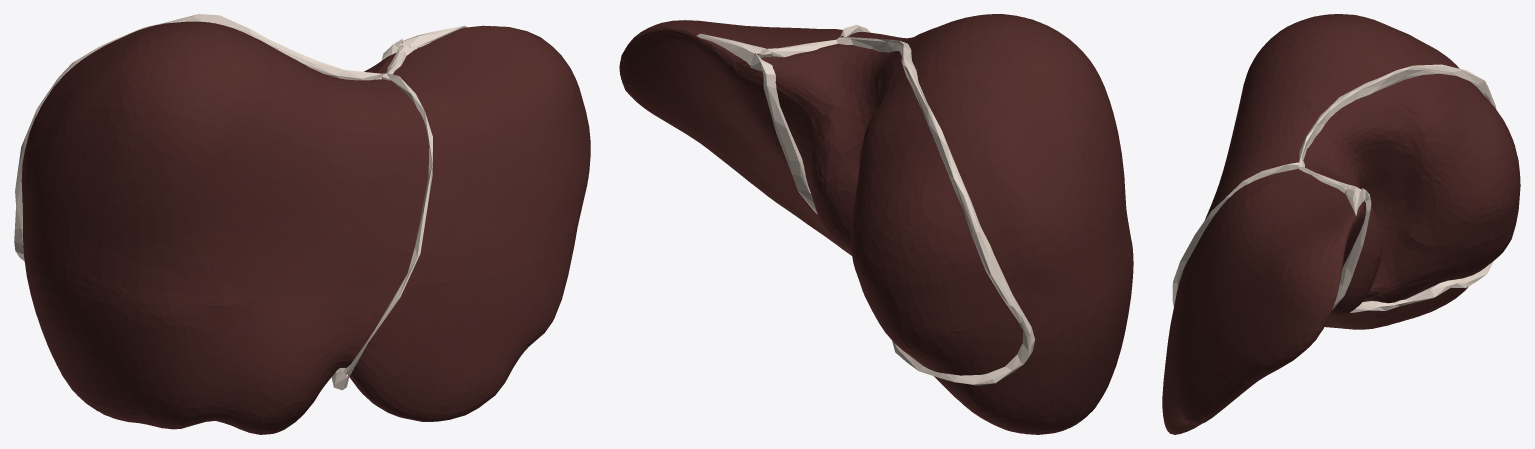
File: VH_F_Liver_0.2.glb
3 renders of one model, left to right at view 1: azimuth 30°, elevation 25°; view 2: azimuth 150°, elevation 25°; view 3: azimuth 270°, elevation 25°, orthographic. The views are drawn at different scales.
Visible parts, largest first — view 1: VH_F_capsule_of_the_liver, VH_F_left_superomedial_segment1, VH_F_right_anterosuperior_segment, VH_F_left_inferomedial_segment, VH_F_right_anteroinferior_segment, VH_F_left_superomedial_segment, VH_F_coronary_ligament_of_liver, VH_F_left_anterolateral_segment, VH_F_falciform_ligament, VH_F_right_posterosuperior_segment; view 2: VH_F_capsule_of_the_liver, VH_F_bare_area_of_liver, VH_F_right_posterosuperior_segment, VH_F_diaphragmatic_surface_of_liver, VH_F_left_superomedial_segment, VH_F_coronary_ligament_of_liver, VH_F_caudate_lobe, VH_F_right_anterosuperior_segment, VH_F_right_posteroinferior_segment, VH_F_ligamentum_venosum, VH_F_gastric_impression_of_liver, VH_F_left_anterolateral_segment (+3 smaller); view 3: VH_F_capsule_of_the_liver, VH_F_bare_area_of_liver, VH_F_caudate_lobe, VH_F_left_superomedial_segment, VH_F_right_posterosuperior_segment, VH_F_coronary_ligament_of_liver, VH_F_left_superomedial_segment1, VH_F_diaphragmatic_surface_of_liver, VH_F_falciform_ligament, VH_F_right_anterosuperior_segment, VH_F_left_anterolateral_segment, VH_F_ligamentum_venosum (+4 smaller).
Part boxes in pixels (bbox=[...]): VH_F_capsule_of_the_liver: bbox=[21, 21, 590, 434]; VH_F_left_superomedial_segment1: bbox=[222, 55, 433, 305]; VH_F_right_anterosuperior_segment: bbox=[38, 21, 272, 305]; VH_F_left_inferomedial_segment: bbox=[207, 284, 398, 432]; VH_F_right_anteroinferior_segment: bbox=[38, 248, 223, 428]; VH_F_left_superomedial_segment: bbox=[380, 26, 590, 284]; VH_F_coronary_ligament_of_liver: bbox=[14, 14, 413, 261]; VH_F_left_anterolateral_segment: bbox=[353, 227, 577, 418]; VH_F_falciform_ligament: bbox=[343, 73, 432, 375]; VH_F_right_posterosuperior_segment: bbox=[22, 30, 142, 247]; VH_F_capsule_of_the_liver: bbox=[619, 14, 1133, 434]; VH_F_bare_area_of_liver: bbox=[755, 47, 1023, 375]; VH_F_right_posterosuperior_segment: bbox=[851, 61, 1101, 331]; VH_F_diaphragmatic_surface_of_liver: bbox=[619, 30, 995, 425]; VH_F_left_superomedial_segment: bbox=[621, 20, 841, 181]; VH_F_coronary_ligament_of_liver: bbox=[768, 37, 1035, 385]; VH_F_caudate_lobe: bbox=[779, 48, 899, 250]; VH_F_right_anterosuperior_segment: bbox=[897, 14, 1132, 282]; VH_F_right_posteroinferior_segment: bbox=[866, 283, 1101, 434]; VH_F_ligamentum_venosum: bbox=[750, 52, 817, 214]; VH_F_gastric_impression_of_liver: bbox=[665, 69, 851, 255]; VH_F_left_anterolateral_segment: bbox=[717, 152, 847, 250]; VH_F_capsule_of_the_liver: bbox=[1162, 14, 1472, 434]; VH_F_bare_area_of_liver: bbox=[1306, 74, 1520, 301]; VH_F_caudate_lobe: bbox=[1305, 98, 1439, 316]; VH_F_left_superomedial_segment: bbox=[1176, 172, 1364, 382]; VH_F_right_posterosuperior_segment: bbox=[1392, 29, 1520, 253]; VH_F_coronary_ligament_of_liver: bbox=[1298, 64, 1496, 312]; VH_F_left_superomedial_segment1: bbox=[1198, 57, 1323, 241]; VH_F_diaphragmatic_surface_of_liver: bbox=[1170, 202, 1495, 433]; VH_F_falciform_ligament: bbox=[1172, 162, 1298, 306]; VH_F_right_anterosuperior_segment: bbox=[1252, 14, 1393, 102]; VH_F_left_anterolateral_segment: bbox=[1162, 298, 1240, 428]; VH_F_ligamentum_venosum: bbox=[1332, 188, 1371, 310].
Bounding box in the file's own units: 0.2472 × 0.17 × 0.1663.
